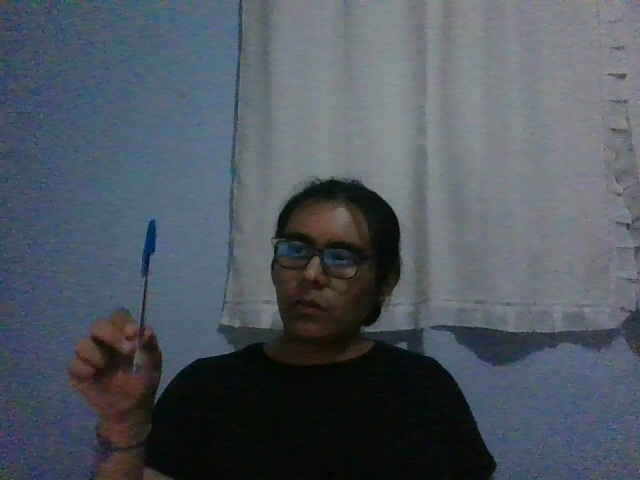pluma: (131, 218, 156, 374)
